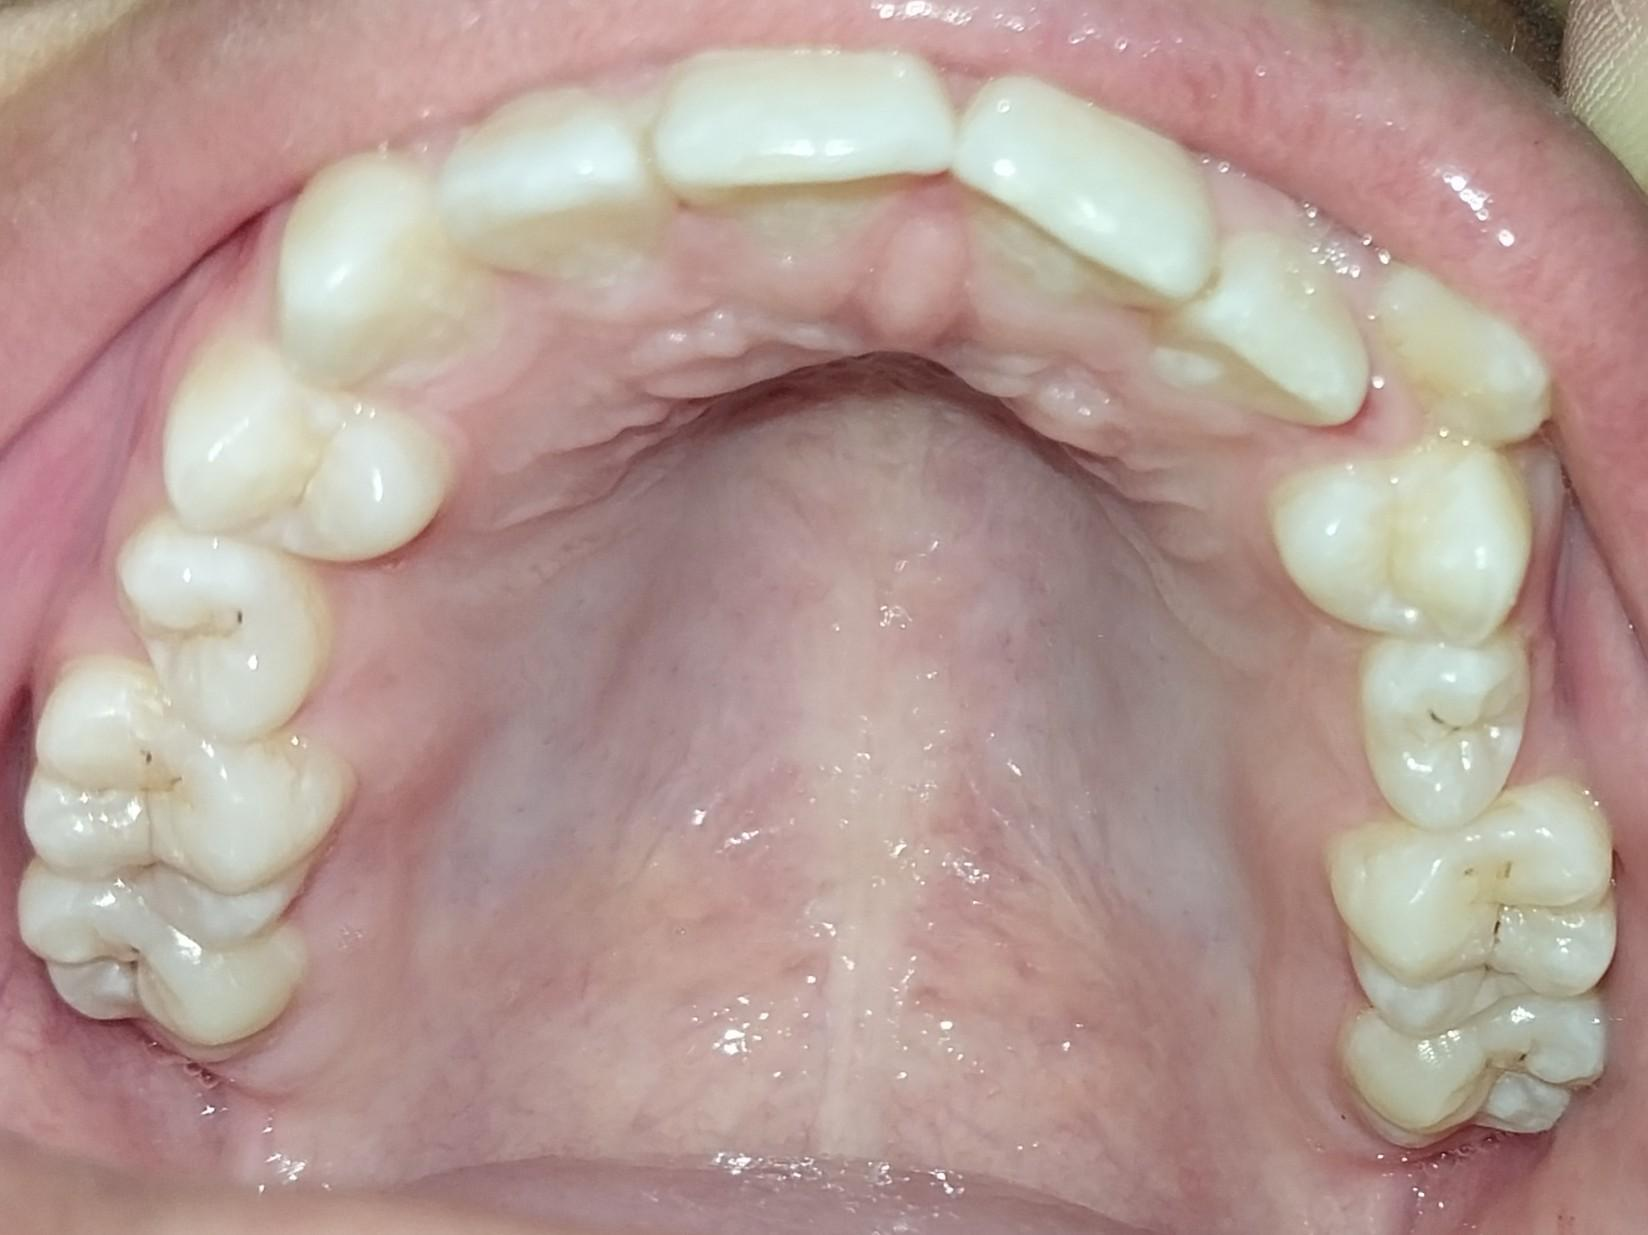D: (1329, 799, 1615, 1027), (12, 868, 297, 1066)
